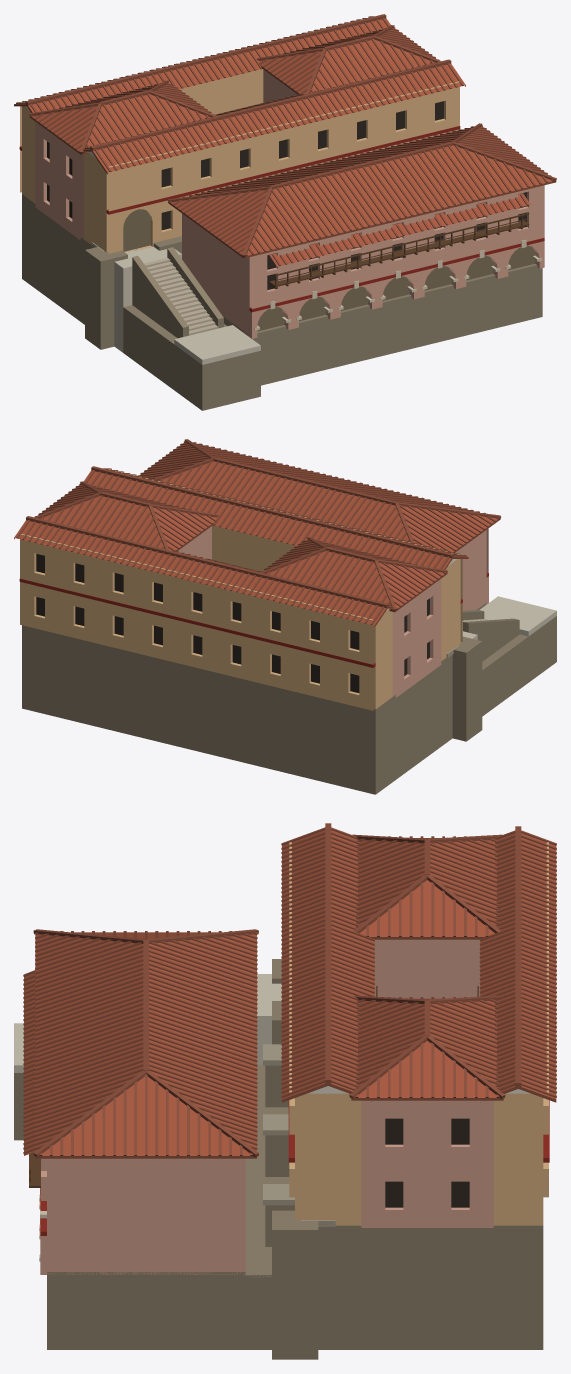
The model's file is rome_pal_block_a_low.glb.
3 renders of one model, top to bottom at view 1: azimuth 30°, elevation 25°; view 2: azimuth 150°, elevation 25°; view 3: azimuth 270°, elevation 25°, orthographic. The views are drawn at different scales.
Visible parts, largest first — view 1: rome_pal_block_a_low; view 2: rome_pal_block_a_low; view 3: rome_pal_block_a_low.
Part boxes in pixels (left/top/right/bottom): rome_pal_block_a_low: left=14, top=14, right=556, bottom=410; rome_pal_block_a_low: left=14, top=439, right=556, bottom=794; rome_pal_block_a_low: left=14, top=823, right=556, bottom=1359.
Bounding box in the file's own units: 38.8 × 19.74 × 32.83.
